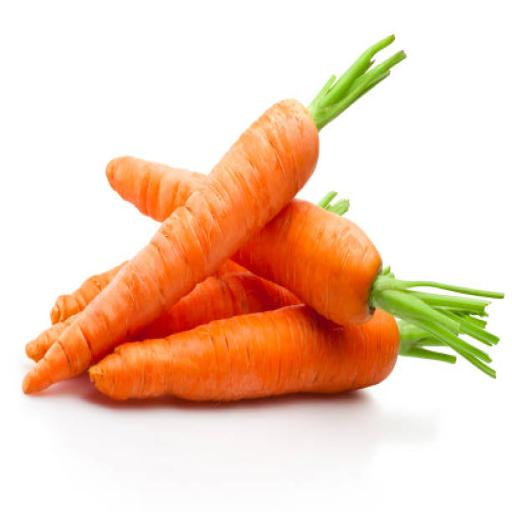carrot: (18, 25, 507, 512)
